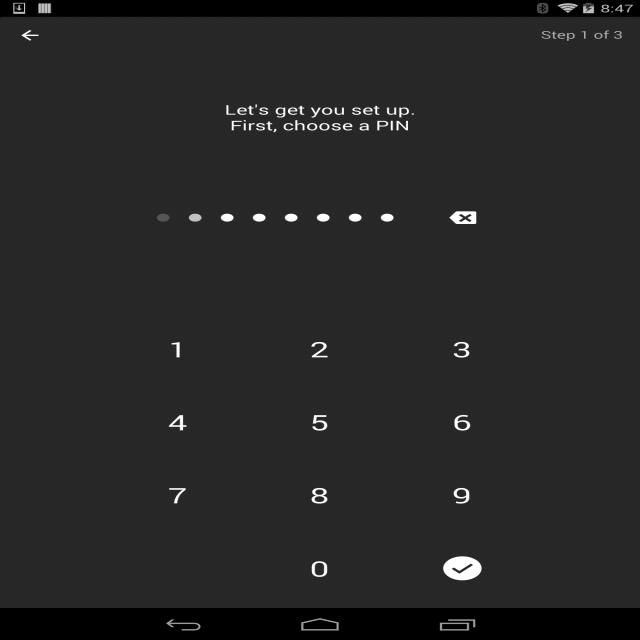Button: (248, 532, 391, 605), (248, 313, 391, 385), (248, 386, 391, 458), (248, 459, 391, 531), (106, 313, 248, 385), (391, 313, 533, 385), (106, 386, 248, 458), (391, 386, 533, 458), (106, 459, 248, 531), (391, 459, 533, 531)
ImageButton: (391, 532, 533, 605)
ImageView: (0, 17, 60, 54)
TextView: (43, 100, 597, 134), (523, 16, 640, 52)
